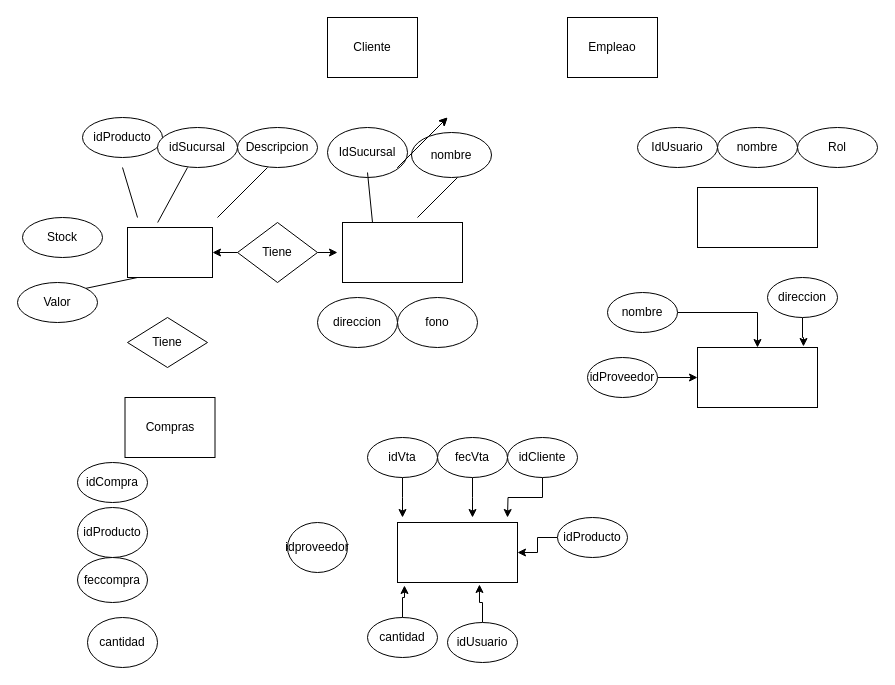
The diagram is 895 pixels wide and 685 high, and some of its shapes have lost their labels. Each missing label, with the centre of its shape:
Producto: the point at 169,252
Proveedor: the point at 757,377
Sucursal: the point at 402,252
Usuario: the point at 757,217
Ventas: the point at 457,552
